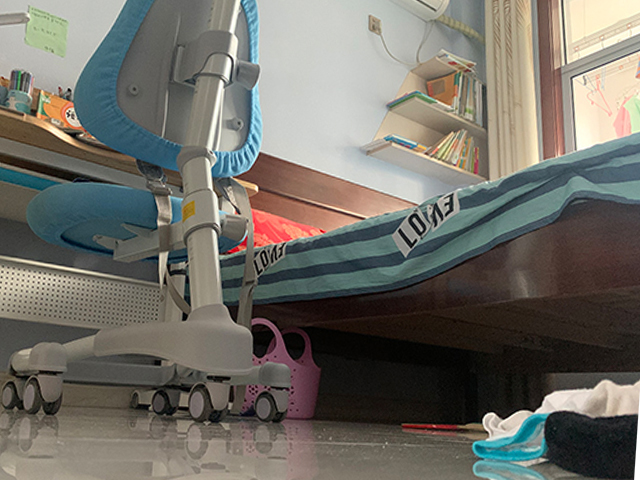bed: (217, 131, 640, 427)
socks: (471, 378, 638, 480)
